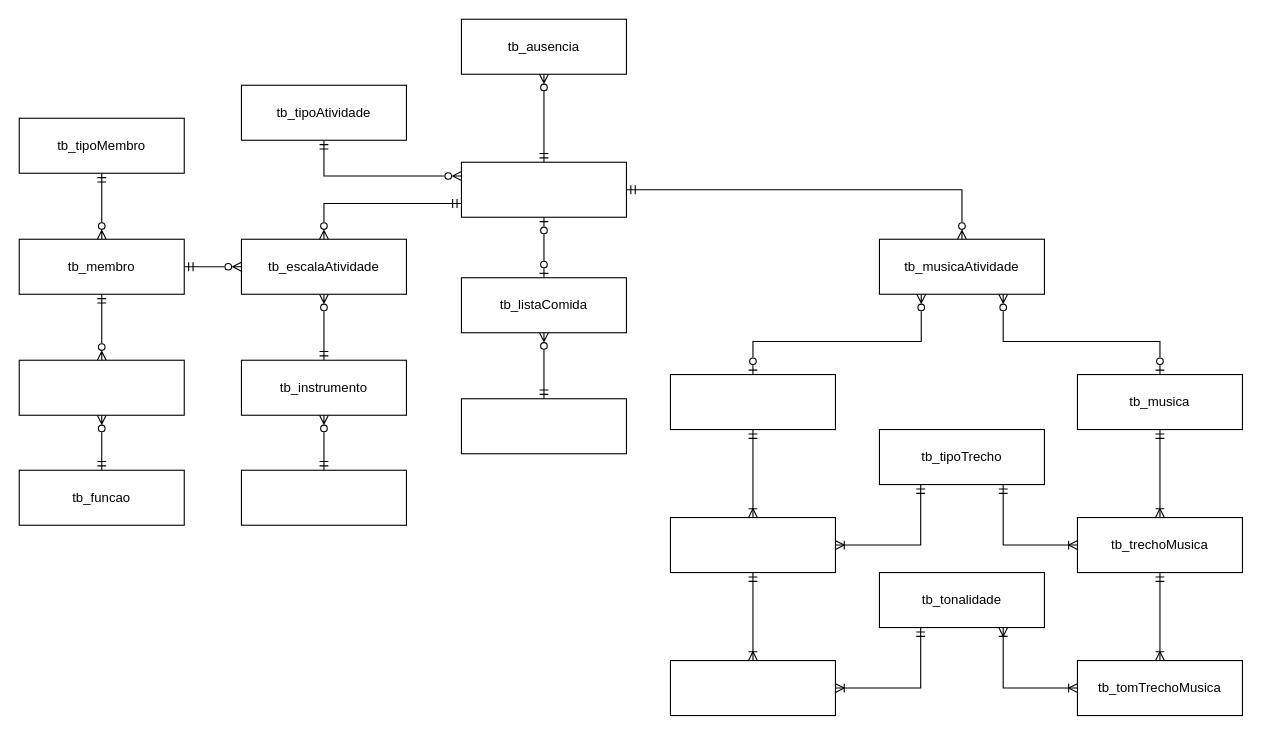
Image size: 1262x735. Some labels were removed from this diagram. Each missing label, with the centre of its shape:
tb_atividade: (543,189)
tb_funcaoMembro: (101,387)
tb_medley: (752,401)
tb_tipoComida: (543,426)
tb_tipoI nstrumento: (323,497)
tb_tomTrechoMedley: (752,687)
tb_trechoMedley: (752,544)
